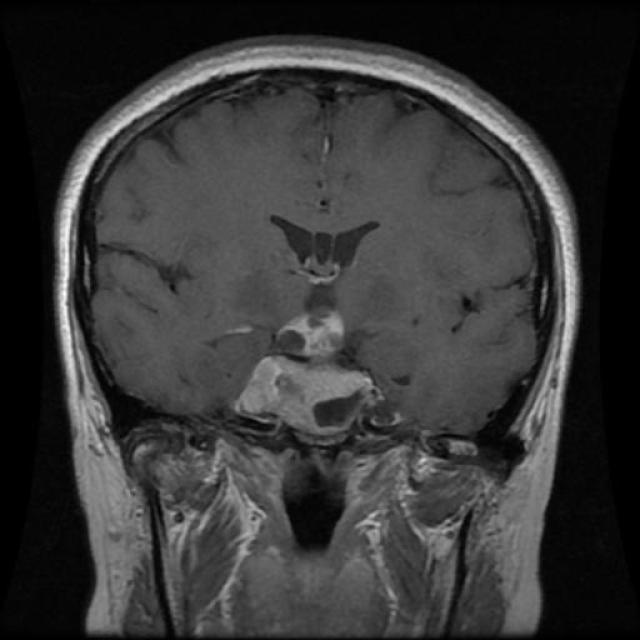pituitary: (228, 296, 378, 431)
